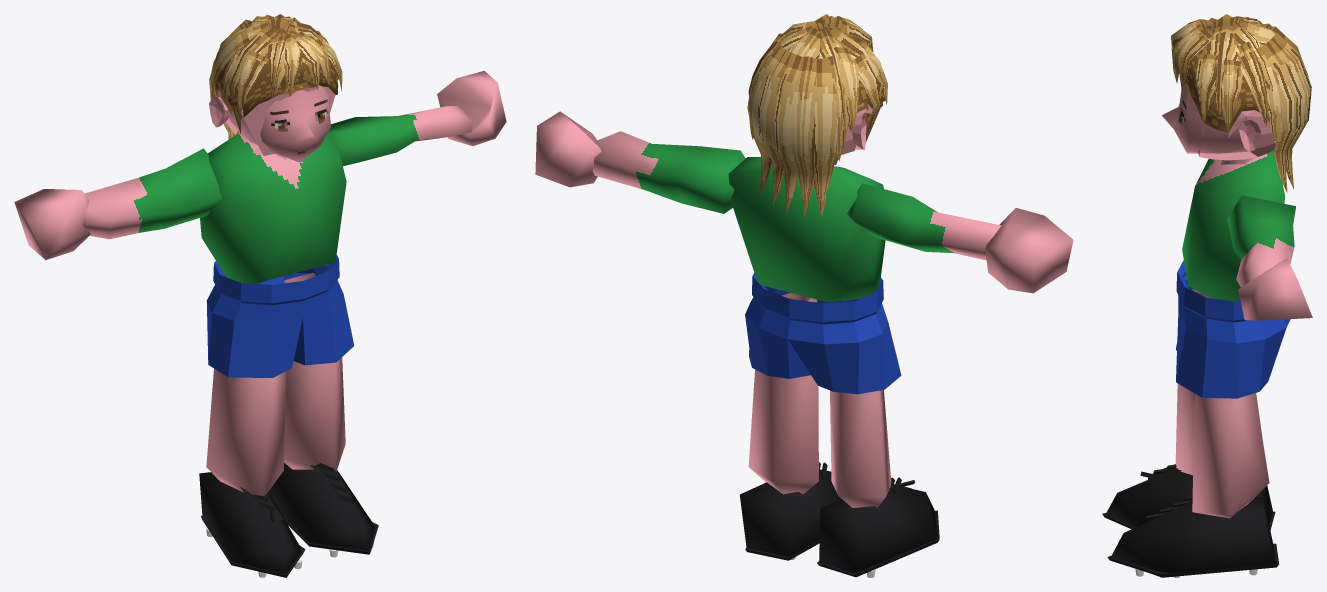
File: 07-mullet_loiro-natural.glb
3 renders of one model, left to right at view 1: azimuth 30°, elevation 25°; view 2: azimuth 150°, elevation 25°; view 3: azimuth 270°, elevation 25°, orthographic. The views are drawn at different scales.
Parts seen in each view (by area): view 1: Camisa_Tronco, Bermuda, Cabelo, Perna.R, Braco.R, Perna.L, Chuteira.R, Chuteira.L, Braco.L, Mao.R, Cabeca, Mao.L (+3 smaller); view 2: Cabelo, Camisa_Tronco, Bermuda, Perna.L, Braco.L, Chuteira.R, Perna.R, Braco.R, Mao.R, Chuteira.L, Mao.L, Chuteira_Sola.R; view 3: Cabelo, Bermuda, Chuteira.L, Camisa_Tronco, Perna.L, Braco.L, Mao.L, Chuteira.R, Cabeca, Perna.R, Cranio, Chuteira_Sola.L (+3 smaller).
Part boxes in pixels (left/top/right/bottom): Camisa_Tronco: left=200, top=133, right=346, bottom=283; Bermuda: left=206, top=255, right=354, bottom=377; Cabelo: left=209, top=14, right=342, bottom=139; Perna.R: left=206, top=368, right=286, bottom=500; Braco.R: left=82, top=148, right=222, bottom=239; Perna.L: left=284, top=272, right=345, bottom=471; Chuteira.R: left=199, top=472, right=303, bottom=573; Chuteira.L: left=269, top=463, right=374, bottom=550; Braco.L: left=328, top=105, right=473, bottom=166; Mao.R: left=14, top=189, right=90, bottom=260; Cabeca: left=221, top=85, right=331, bottom=162; Mao.L: left=437, top=70, right=506, bottom=145; Cabelo: left=748, top=14, right=887, bottom=216; Camisa_Tronco: left=728, top=157, right=885, bottom=302; Bermuda: left=745, top=273, right=901, bottom=394; Perna.L: left=748, top=293, right=818, bottom=494; Braco.L: left=593, top=131, right=745, bottom=213; Chuteira.R: left=819, top=484, right=937, bottom=572; Perna.R: left=830, top=390, right=891, bottom=507; Braco.R: left=847, top=183, right=1001, bottom=260; Mao.R: left=985, top=208, right=1073, bottom=293; Chuteira.L: left=740, top=469, right=841, bottom=556; Mao.L: left=535, top=111, right=601, bottom=187; Chuteira_Sola.R: left=817, top=510, right=939, bottom=577; Cabelo: left=1171, top=14, right=1311, bottom=192; Bermuda: left=1176, top=260, right=1290, bottom=398; Chuteira.L: left=1111, top=497, right=1276, bottom=577; Camisa_Tronco: left=1182, top=149, right=1284, bottom=301; Perna.L: left=1192, top=393, right=1269, bottom=518; Braco.L: left=1227, top=195, right=1295, bottom=287; Mao.L: left=1238, top=258, right=1312, bottom=320; Chuteira.R: left=1106, top=467, right=1272, bottom=526; Cabeca: left=1162, top=85, right=1248, bottom=153; Perna.R: left=1175, top=288, right=1262, bottom=475; Cranio: left=1198, top=110, right=1275, bottom=160; Chuteira_Sola.L: left=1107, top=543, right=1278, bottom=577.
Size of the model in its own units: 0.4523 by 0.4501 by 0.1617.
3 materials, 3 textured.
